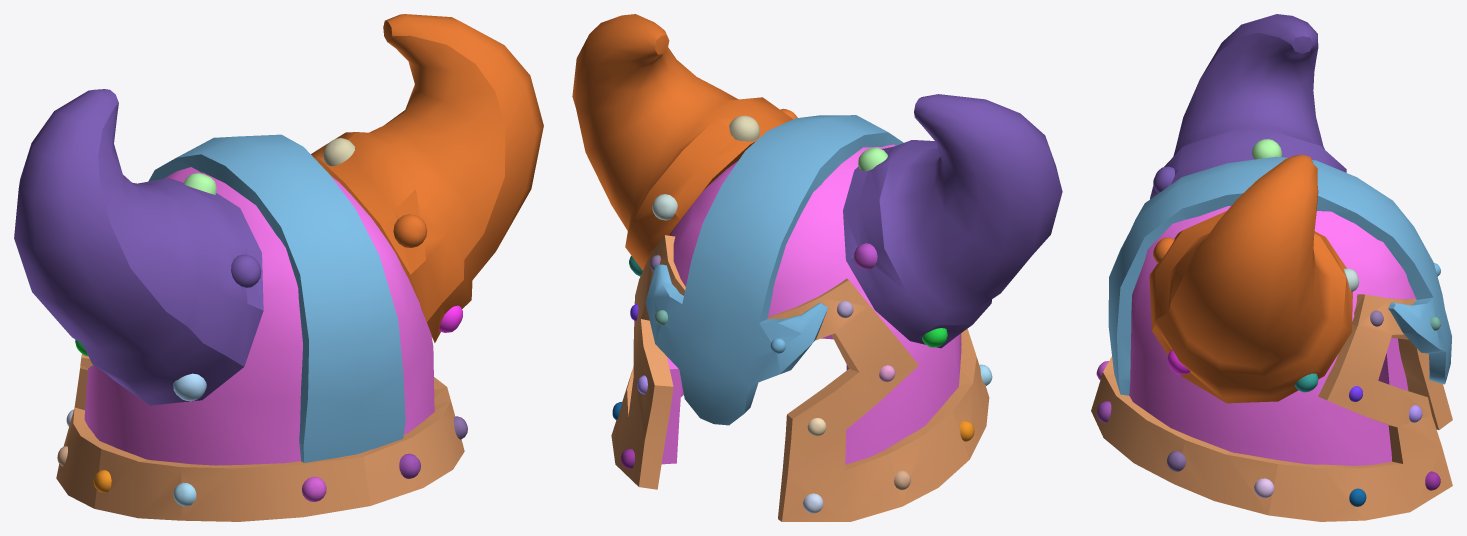
3 renders of one model, left to right at view 1: azimuth 30°, elevation 25°; view 2: azimuth 150°, elevation 25°; view 3: azimuth 270°, elevation 25°, orthographic. The views are drawn at different scales.
Visible parts, largest first — view 1: split_parent_0, split_parent_1, split_parent_2, Sphere.017_Helmet_0.008, split_parent_4, Sphere.017_Helmet_0.063, Sphere.017_Helmet_0.066; view 2: split_parent_0, split_parent_2, split_parent_4, split_parent_1, Sphere.017_Helmet_0.008, Sphere.017_Helmet_0.066; view 3: split_parent_1, split_parent_4, Sphere.017_Helmet_0.008, split_parent_2, split_parent_0, Sphere.017_Helmet_0.065.
Boxes of the visible parts, bbox=[...] form: split_parent_0: bbox=[14, 89, 263, 405]; split_parent_1: bbox=[311, 14, 543, 342]; split_parent_2: bbox=[148, 134, 405, 462]; Sphere.017_Helmet_0.008: bbox=[84, 167, 434, 465]; split_parent_4: bbox=[56, 354, 464, 521]; Sphere.017_Helmet_0.063: bbox=[173, 373, 206, 401]; Sphere.017_Helmet_0.066: bbox=[322, 138, 354, 165]; split_parent_0: bbox=[843, 94, 1062, 348]; split_parent_2: bbox=[645, 115, 903, 425]; split_parent_4: bbox=[611, 235, 989, 521]; split_parent_1: bbox=[572, 14, 797, 270]; Sphere.017_Helmet_0.008: bbox=[661, 144, 961, 464]; Sphere.017_Helmet_0.066: bbox=[729, 115, 759, 141]; split_parent_1: bbox=[1149, 154, 1352, 403]; split_parent_4: bbox=[1091, 294, 1452, 521]; Sphere.017_Helmet_0.008: bbox=[1129, 206, 1415, 465]; split_parent_2: bbox=[1108, 156, 1451, 395]; split_parent_0: bbox=[1150, 14, 1346, 199]; Sphere.017_Helmet_0.065: bbox=[1252, 139, 1281, 159].
Size of the model in its own units: 1 by 0.7989 by 0.7064.
